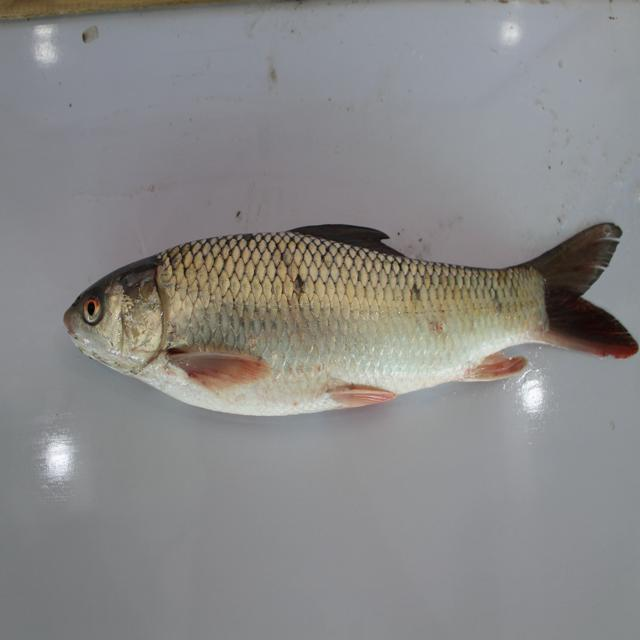Mori: (59, 214, 640, 428)
